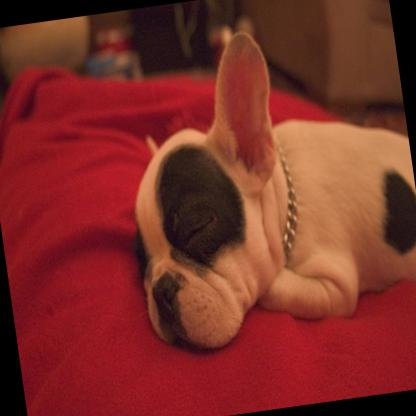French_bulldog: (102, 5, 416, 362)
